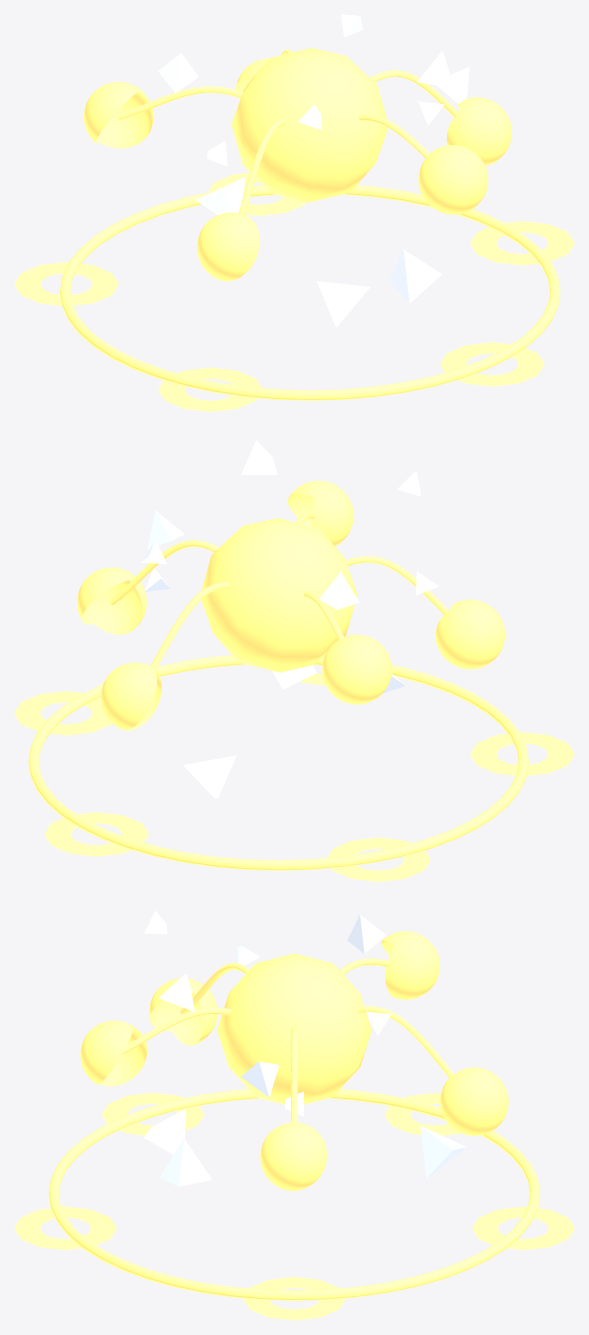
The model's file is vfx_cluster_split.glb.
3 views of the same model, one above another, from view 1: azimuth 30°, elevation 25°; view 2: azimuth 150°, elevation 25°; view 3: azimuth 270°, elevation 25° (orthographic).
Parts seen in each view (by area): view 1: split_flash, split_landing, split_carapace, split_sac1, split_sac3, split_sac2, split_sac0, split_pad3, split_pad0, split_pad1, split_pad2, split_pad4 (+4 smaller); view 2: split_flash, split_landing, split_carapace, split_sac3, split_sac2, split_sac0, split_sac4, split_sac1, split_pad2, split_pad4, split_pad3, split_pad0 (+3 smaller); view 3: split_flash, split_landing, split_carapace, split_sac4, split_sac0, split_sac1, split_sac3, split_pad1, split_pad4, split_sac2, split_pad0, split_pad2 (+5 smaller).
Boxes of the visible parts, bbox=[...] form: split_flash: bbox=[231, 48, 388, 202]; split_landing: bbox=[60, 185, 560, 400]; split_carapace: bbox=[158, 14, 469, 327]; split_sac1: bbox=[418, 145, 488, 214]; split_sac3: bbox=[83, 82, 153, 148]; split_sac2: bbox=[197, 212, 259, 281]; split_sac0: bbox=[446, 97, 511, 165]; split_pad3: bbox=[14, 262, 118, 305]; split_pad0: bbox=[470, 221, 574, 265]; split_pad1: bbox=[440, 342, 544, 386]; split_pad2: bbox=[158, 367, 261, 411]; split_pad4: bbox=[207, 172, 306, 215]; split_flash: bbox=[201, 518, 357, 672]; split_landing: bbox=[28, 655, 528, 870]; split_carapace: bbox=[141, 440, 438, 798]; split_sac3: bbox=[322, 634, 391, 704]; split_sac2: bbox=[435, 599, 505, 669]; split_sac0: bbox=[77, 567, 146, 634]; split_sac4: bbox=[100, 662, 161, 730]; split_sac1: bbox=[288, 481, 353, 546]; split_pad2: bbox=[470, 732, 574, 775]; split_pad4: bbox=[44, 812, 148, 856]; split_pad3: bbox=[327, 837, 430, 881]; split_pad0: bbox=[14, 691, 112, 735]; split_flash: bbox=[217, 953, 371, 1104]; split_landing: bbox=[48, 1089, 540, 1300]; split_carapace: bbox=[144, 910, 466, 1186]; split_sac4: bbox=[440, 1067, 508, 1135]; split_sac0: bbox=[260, 1122, 327, 1191]; split_sac1: bbox=[80, 1020, 147, 1086]; split_sac3: bbox=[381, 931, 439, 999]; split_pad1: bbox=[14, 1206, 116, 1250]; split_pad4: bbox=[472, 1206, 574, 1250]; split_sac2: bbox=[149, 978, 217, 1045]; split_pad0: bbox=[243, 1277, 345, 1320]; split_pad2: bbox=[101, 1093, 204, 1135].
Bounding box in the file's own units: 3.13 × 1.69 × 3.26.
